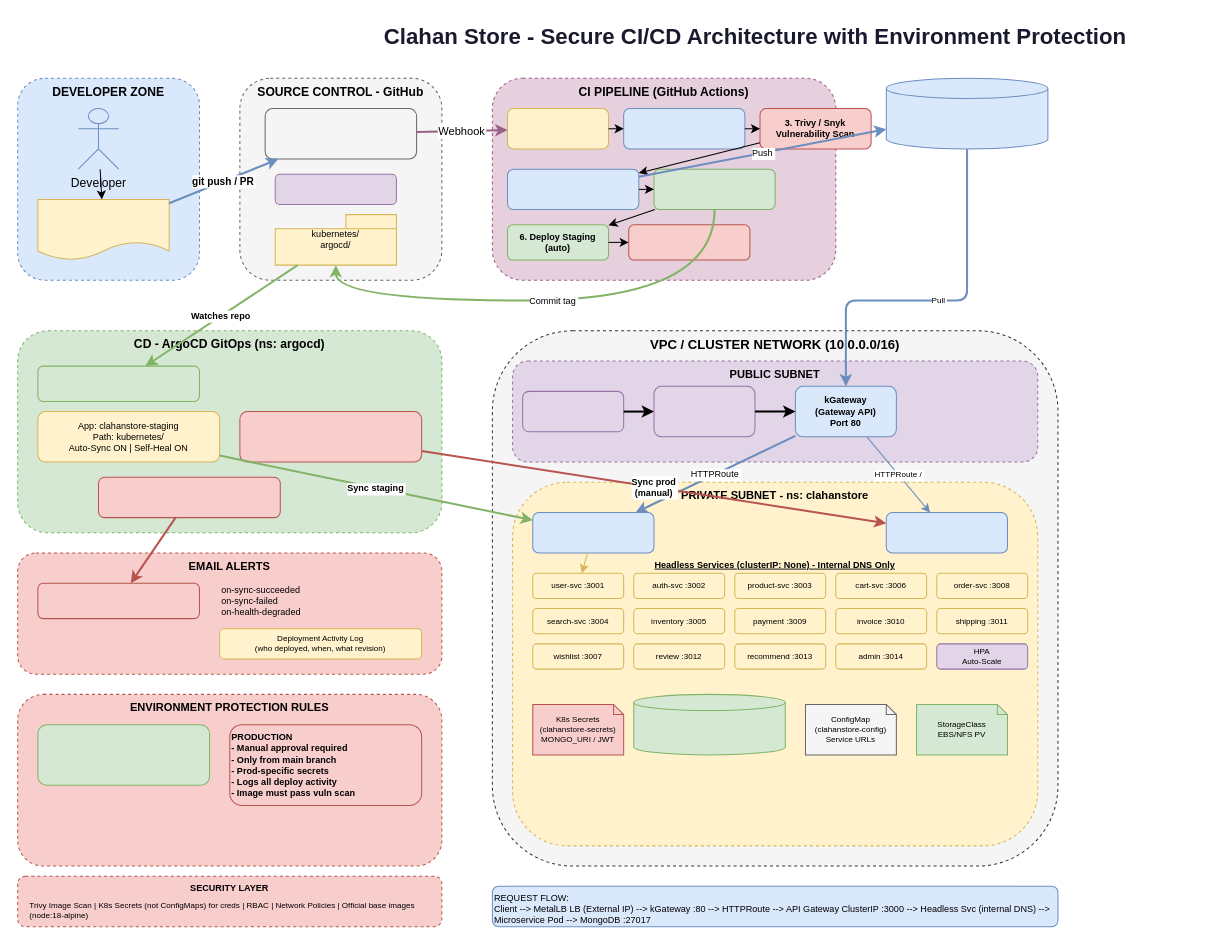
This 1227x944 diagram has some shape labels left out. The shapes that lost their labels are listed below. From the top down, each one's centre as x and y in pixels, then its label:
At point 340,133: "GitHub Repo muvvaalaakash/ E-Commerce-final".
At point 558,128: "1. Checkout + Lint + Unit Tests".
At point 684,128: "2. Docker Build (Official Node:18-alpine)".
At point 966,113: "DOCKER REGISTRY (DockerHub)".
At point 335,189: "main branch (Protected)".
At point 573,189: "4. Push to DockerHub team4devops/*:v1.x.x".
At point 714,189: "5. Update image tag in K8s manifests".
At point 103,229: "Feature Branch Code + Dockerfile + K8s Manifests".
At point 689,242: "7. Manual Approval Gate for PROD".
At point 118,383: "ArgoCD Server".
At point 573,411: "Internet Client Browser".
At point 704,411: "MetalLB LoadBalancer External IP".
At point 330,436: "App: clahanstore-production Path: kubernetes/ Auto-Sync OFF | Manual Sync".
At point 188,497: "argocd-notifications Email via Gmail SMTP smtp.gmail.com:465".
At point 593,532: "API Gateway :3000 (ClusterIP)".
At point 946,532: "Frontend UI :80 (ClusterIP)".
At point 118,600: "Gmail SMTP :465 aknagasai2104@gmail.com".
At point 709,724: "MongoDB StatefulSet (mongo:6.0 :27017) Headless SVC / PVC".
At point 123,754: "STAGING - Auto-deploy from main - No approval needed - Staging secrets only".
